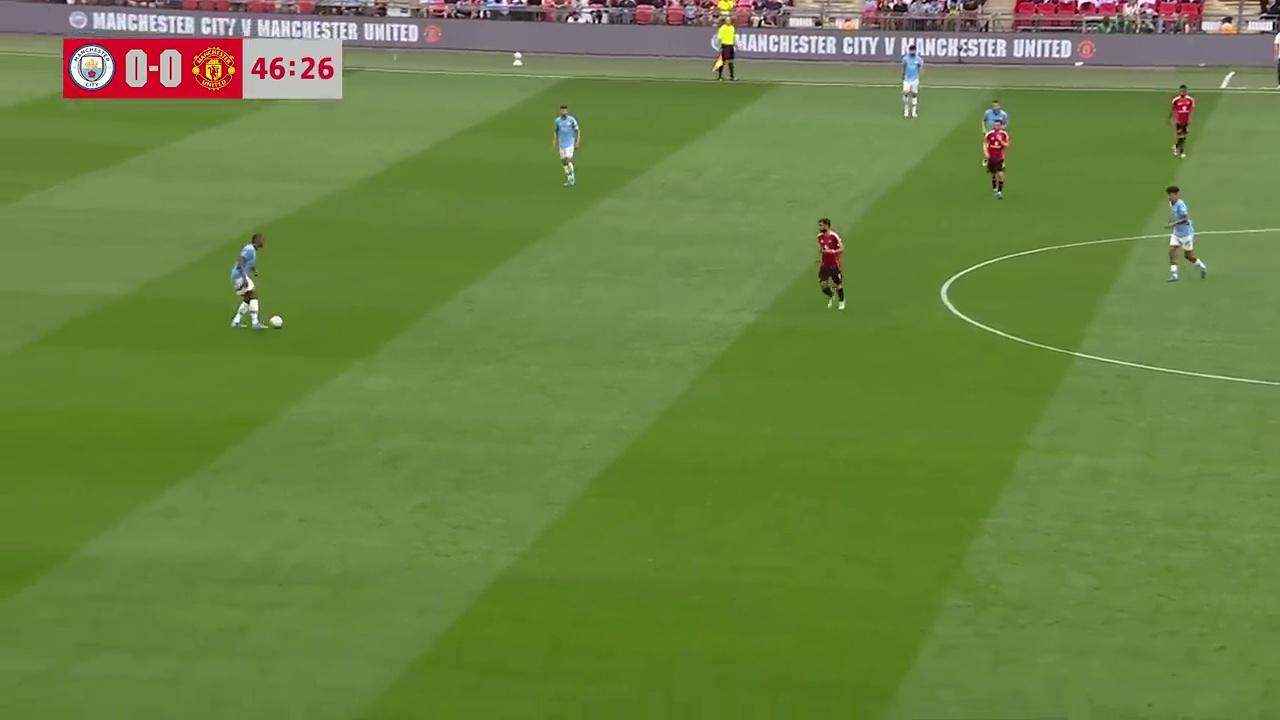ball: (269, 312, 285, 328)
player: (229, 233, 273, 330), (1165, 187, 1207, 282), (816, 217, 846, 311), (552, 103, 580, 187), (982, 121, 1009, 199), (982, 99, 1009, 176), (1169, 85, 1195, 158), (900, 47, 922, 118)
referee: (711, 18, 738, 82)
